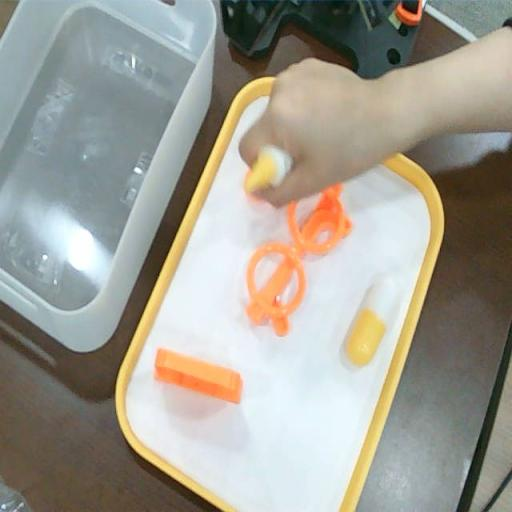hospital: (240, 56, 389, 203)
